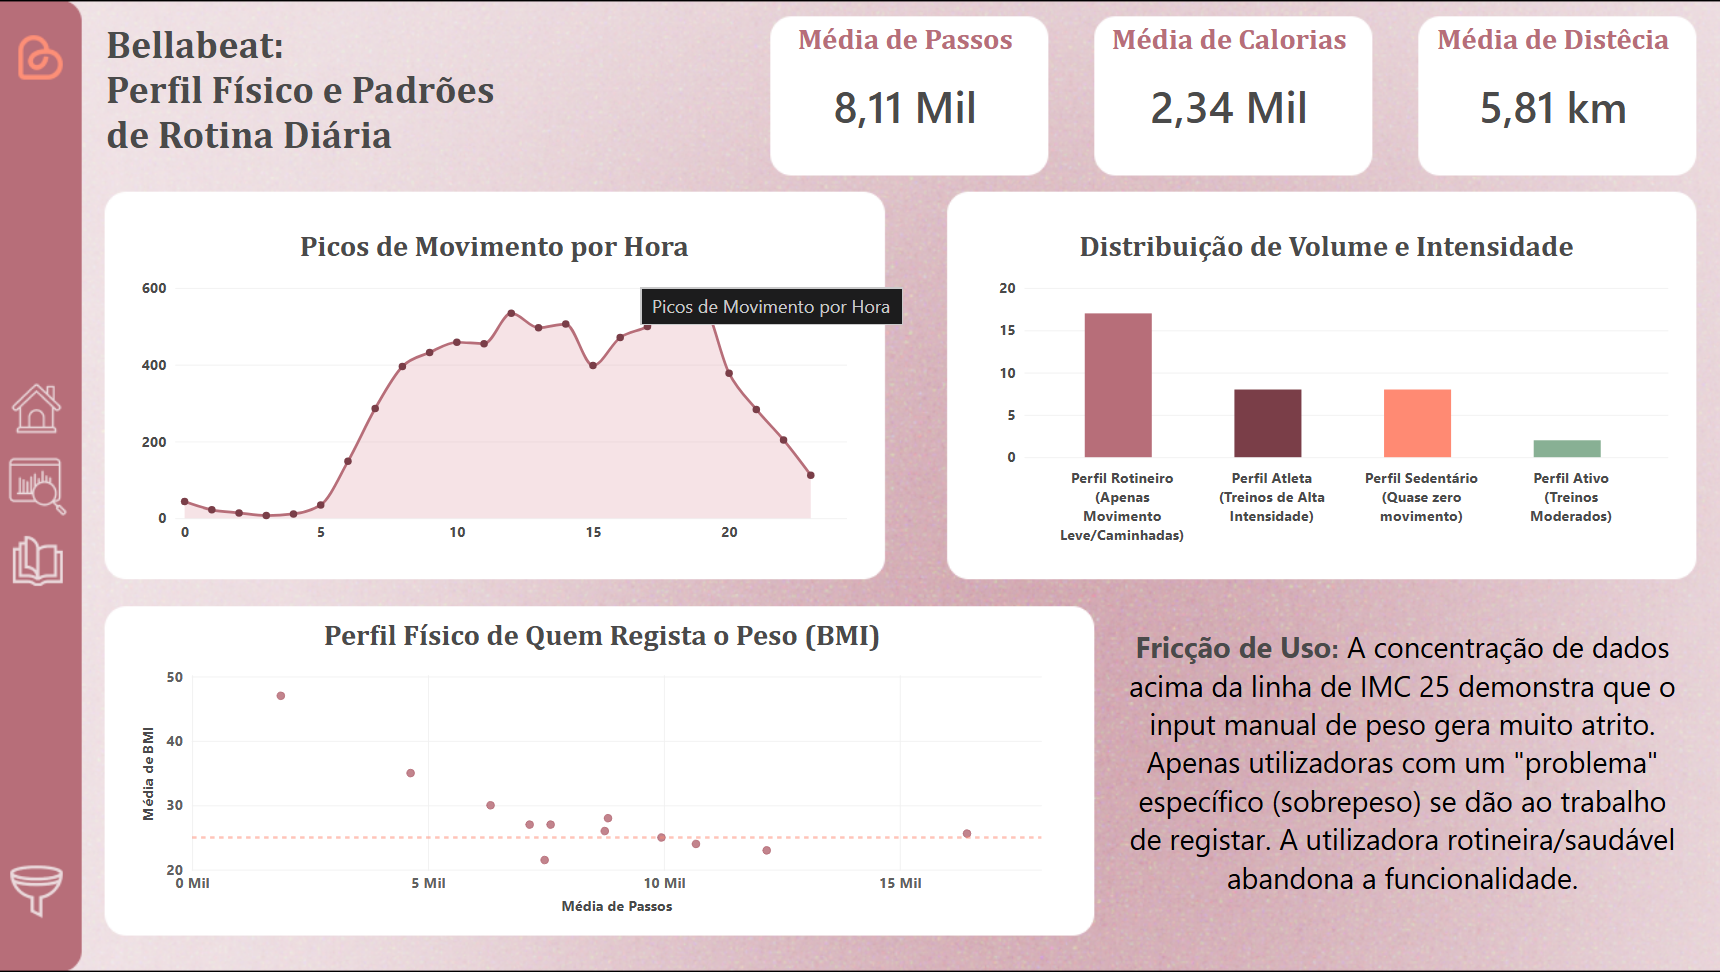

The page's visual inventory and layout, read from the dashboard file:
{"tool":"powerbi","page":{"name":"Perfil Físico","canvas":[1920,1080],"ordinal":2},"visuals":[{"type":"image","box":[0,0,1920,1080],"z":0,"group":"g1"},{"type":"group","id":"g1","title":"Perfil Físico Padrão","box":[0,0,1920,1080],"z":0},{"type":"textbox","box":[120,24,480,168],"z":1000,"group":"g1"},{"type":"cardVisual","title":"Média de Passos","fields":{"Data":["Avg(daily_activity.TOTAL_STEPS)"]},"box":[840,24,336,168],"z":2000,"group":"g1"},{"type":"cardVisual","title":"Média de Distêcia","fields":{"Data":["daily_activity.TOTAL_DISTANCE_CARD"]},"box":[1560,24,336,168],"z":3000,"group":"g1"},{"type":"pageNavigator","title":"Navegador Home","box":[5,415,70,70],"z":3000},{"type":"cardVisual","title":"Média de Calorias","fields":{"Data":["Avg(daily_activity.CALORIES)"]},"box":[1200,24,336,168],"z":4000,"group":"g1"},{"type":"pageNavigator","title":"Navegador Sobre","box":[5,590,70,70],"z":4000},{"type":"pageNavigator","title":"Navegador Home Logo","box":[0,33,90,64],"z":5000},{"type":"columnChart","title":"Distribuição de Volume e Intensidade","fields":{"Category":["vw_dim_perfil_atividade.PERFIL_DE_INTENSIDADE"],"Y":["CountNonNull(vw_dim_perfil_atividade.USER_ID)"]},"box":[1080,240,792,384],"z":5000,"group":"g1"},{"type":"areaChart","title":"Picos de Movimento por Hora","fields":{"Category":["hourly_steps.HOUR_OF_DAY"],"Y":["Avg(hourly_steps.STEP_TOTAL)"]},"box":[144,240,816,384],"z":6000,"group":"g1"},{"type":"scatterChart","title":"Perfil Físico de Quem Regista o Peso (BMI)","fields":{"Category":["dim_users.USER_ID"],"X":["Avg(daily_activity.TOTAL_STEPS)"],"Y":["Avg(weight_log.BMI)"]},"box":[144,672,1056,360],"z":7000,"group":"g1"},{"type":"actionButton","title":"Botão Filtos","box":[10,950,96,96],"z":7000},{"type":"actionButton","title":"Botão Navegação","box":[0,500,85,70],"z":8000},{"type":"textbox","box":[1248,696,624,312],"z":8000,"group":"g1"}]}

Visuals, with their boxes on the page's 1920x1080 design canvas (x1, y1, x2, y2). These are canvas units, not pixel positions in the 1720x972 screenshot, which may show the page scaled, cropped or inside an application window:
image: 0:0:1920:1080
"Perfil Físico Padrão" group: 0:0:1920:1080
textbox: 120:24:600:192
"Média de Passos" cardVisual: 840:24:1176:192
"Média de Distêcia" cardVisual: 1560:24:1896:192
"Navegador Home" pageNavigator: 5:415:75:485
"Média de Calorias" cardVisual: 1200:24:1536:192
"Navegador Sobre" pageNavigator: 5:590:75:660
"Navegador Home Logo" pageNavigator: 0:33:90:97
"Distribuição de Volume e Intensidade" columnChart: 1080:240:1872:624
"Picos de Movimento por Hora" areaChart: 144:240:960:624
"Perfil Físico de Quem Regista o Peso (BMI)" scatterChart: 144:672:1200:1032
"Botão Filtos" actionButton: 10:950:106:1046
"Botão Navegação" actionButton: 0:500:85:570
textbox: 1248:696:1872:1008
